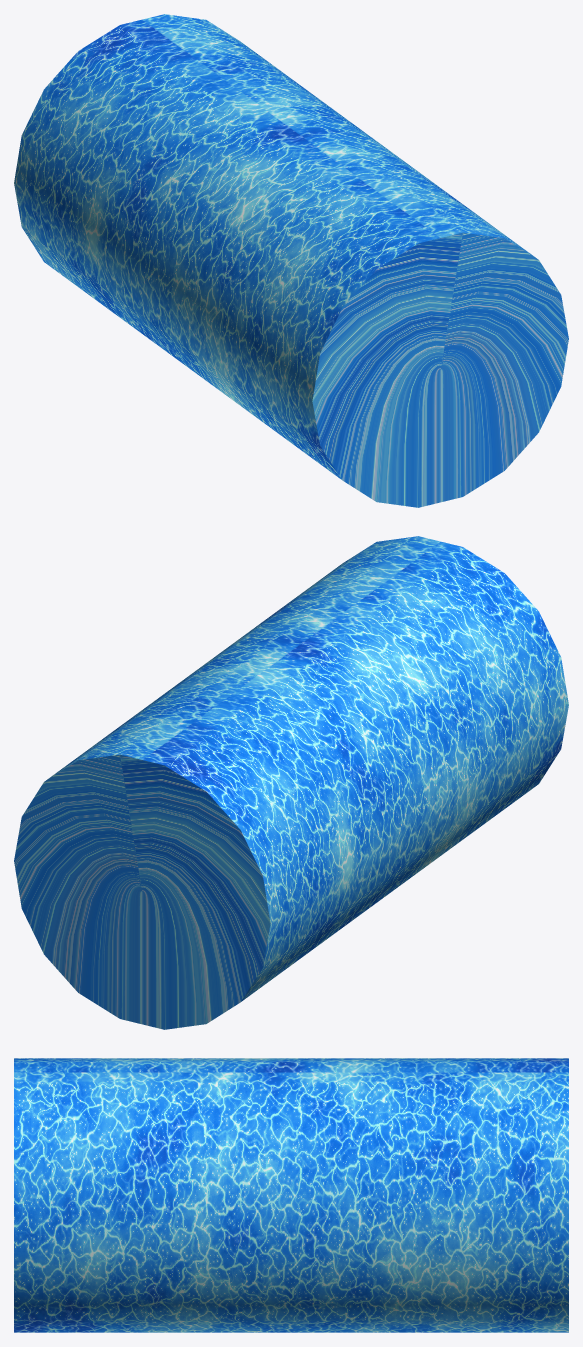
The model's file is Sea.FBX.
The picture shows the model from 3 angles, top to bottom: view 1: azimuth 30°, elevation 25°; view 2: azimuth 150°, elevation 25°; view 3: azimuth 270°, elevation 25°; orthographic projection. The views are drawn at different scales.
Parts seen in each view (by area): view 1: Cylinder002; view 2: Cylinder002; view 3: Cylinder002.
Boxes of the visible parts, x1,y1,x2,y2 form: Cylinder002: (14, 14, 568, 507); Cylinder002: (14, 536, 568, 1029); Cylinder002: (14, 1058, 568, 1332).
Size of the model in its own units: 800 by 788 by 1612.
1 material, 1 textured.
